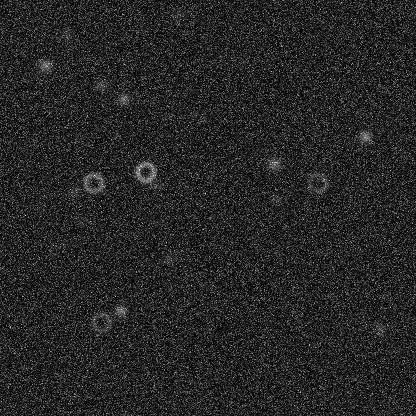Ring: (133, 159, 157, 183), (305, 170, 329, 194), (89, 310, 113, 334), (81, 171, 105, 195)
Spot: (357, 128, 373, 144), (146, 177, 162, 193), (37, 57, 53, 73), (169, 8, 185, 24), (161, 249, 177, 265), (372, 320, 388, 336), (194, 109, 210, 125), (114, 91, 130, 107), (112, 302, 128, 318), (93, 76, 109, 92), (74, 211, 90, 227), (265, 155, 281, 171), (58, 26, 74, 42), (268, 190, 284, 206), (66, 183, 82, 199)
